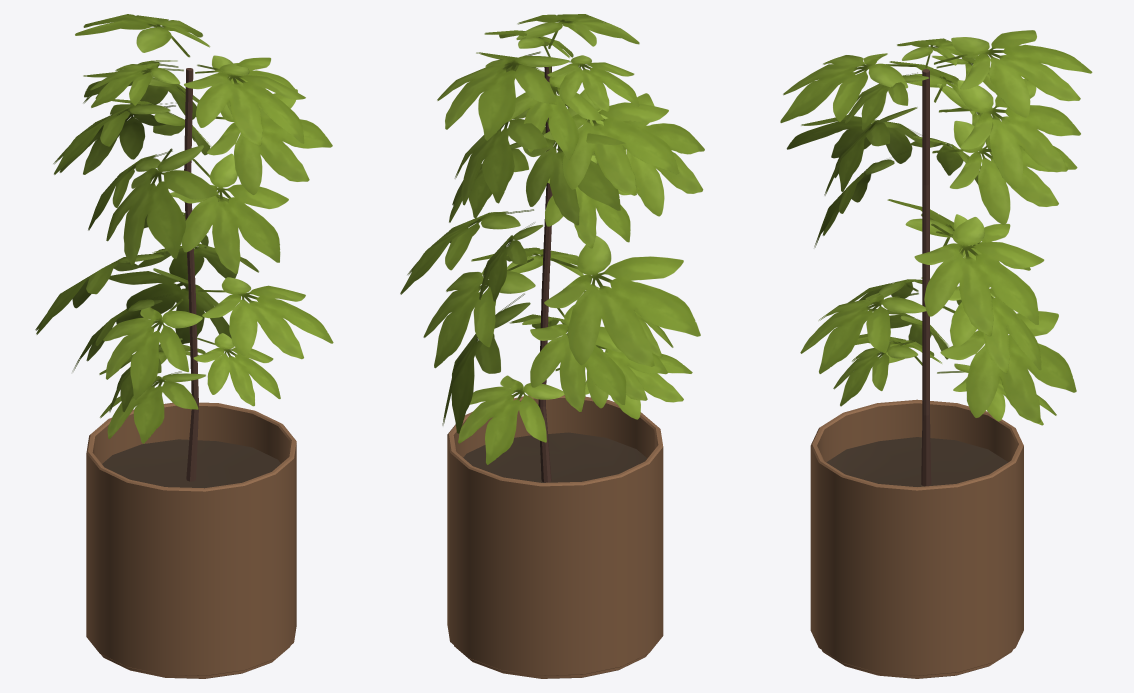
The model's file is Umbrella Plant w_ Pot.glb.
The picture shows the model from 3 angles, left to right: view 1: azimuth 30°, elevation 25°; view 2: azimuth 150°, elevation 25°; view 3: azimuth 270°, elevation 25°; orthographic projection. The views are drawn at different scales.
Parts seen in each view (by area): view 1: Umbrella Plant w/ Pot; view 2: Umbrella Plant w/ Pot; view 3: Umbrella Plant w/ Pot.
Boxes of the visible parts, left/top/right/bottom form: Umbrella Plant w/ Pot: left=35, top=14, right=333, bottom=678; Umbrella Plant w/ Pot: left=400, top=14, right=704, bottom=678; Umbrella Plant w/ Pot: left=780, top=30, right=1092, bottom=678.
Size of the model in its own units: 0.3318 by 0.6525 by 0.3655.
Materials: 3 (2 with a texture image).
